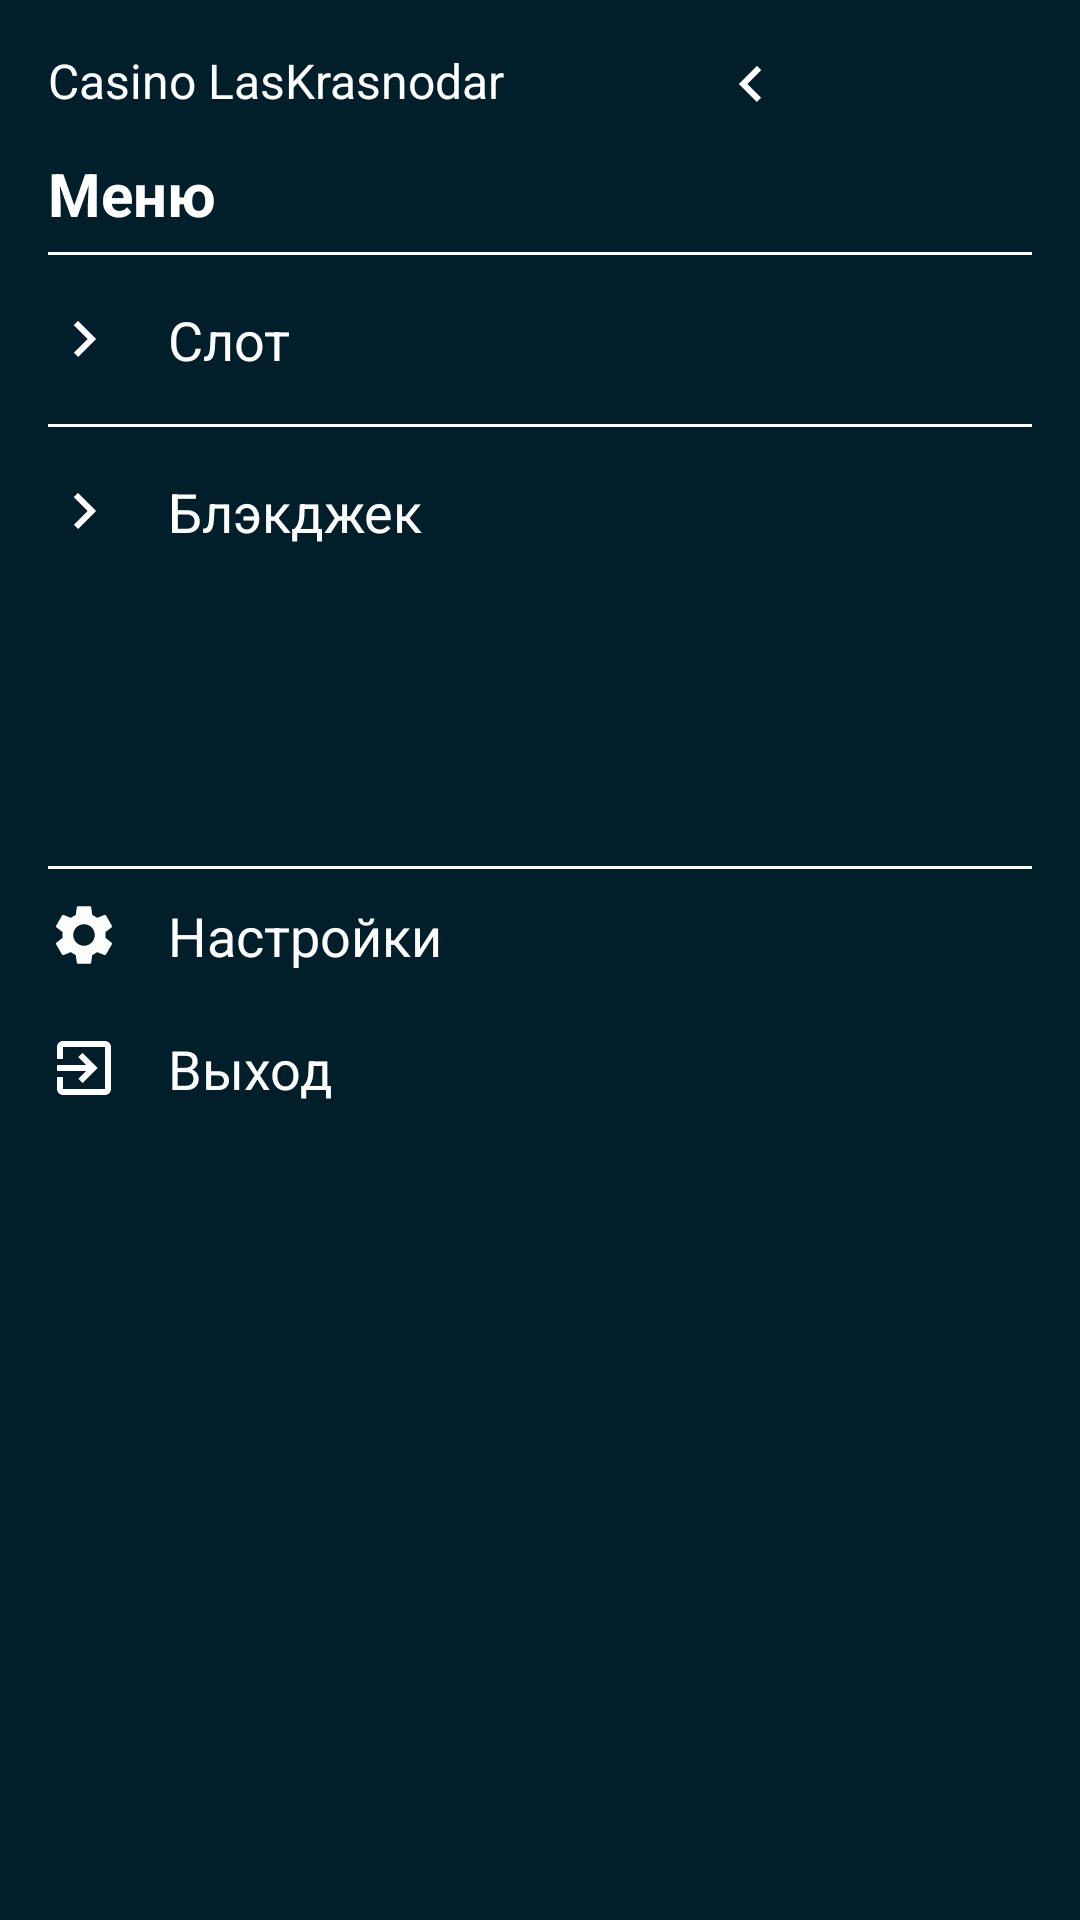

Locate icon controls on the screen. Image size 1080w x 1920h, boxes as bbox=(x1, y1, x2, y2).
exit: bbox=(57, 1041, 111, 1095)
settings: bbox=(56, 906, 112, 964)
